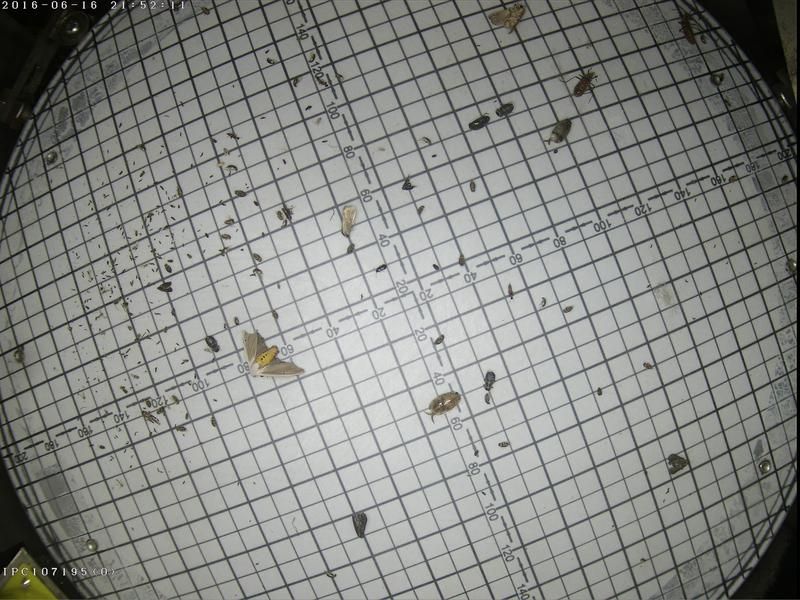Spodoptera exigua: (337, 204, 355, 235)
